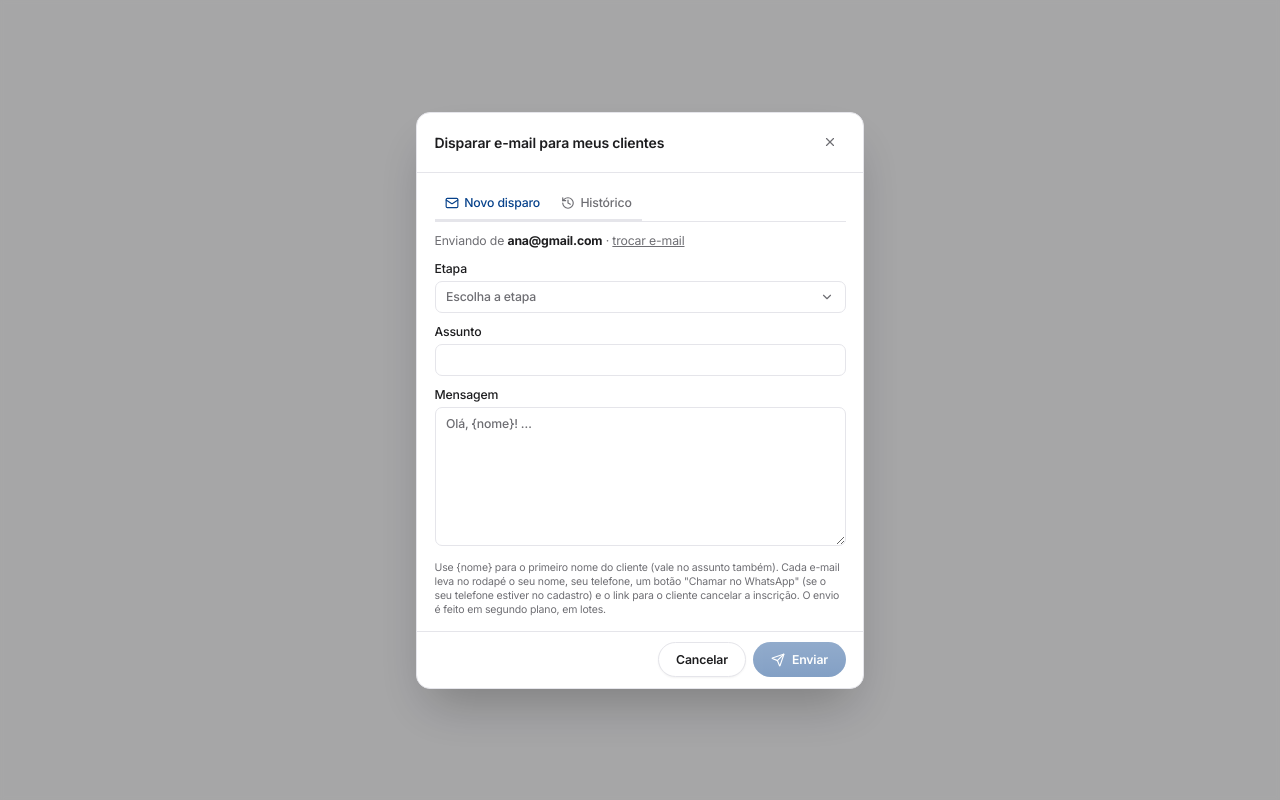
Test: DisparoEmailDialog › mostra quantos vão receber e quantos cancelaram a inscrição
The width and height of the screenshot is (1280, 800).
Click the button "Escolha a etapa" at (491, 296), box [434,281,846,312]
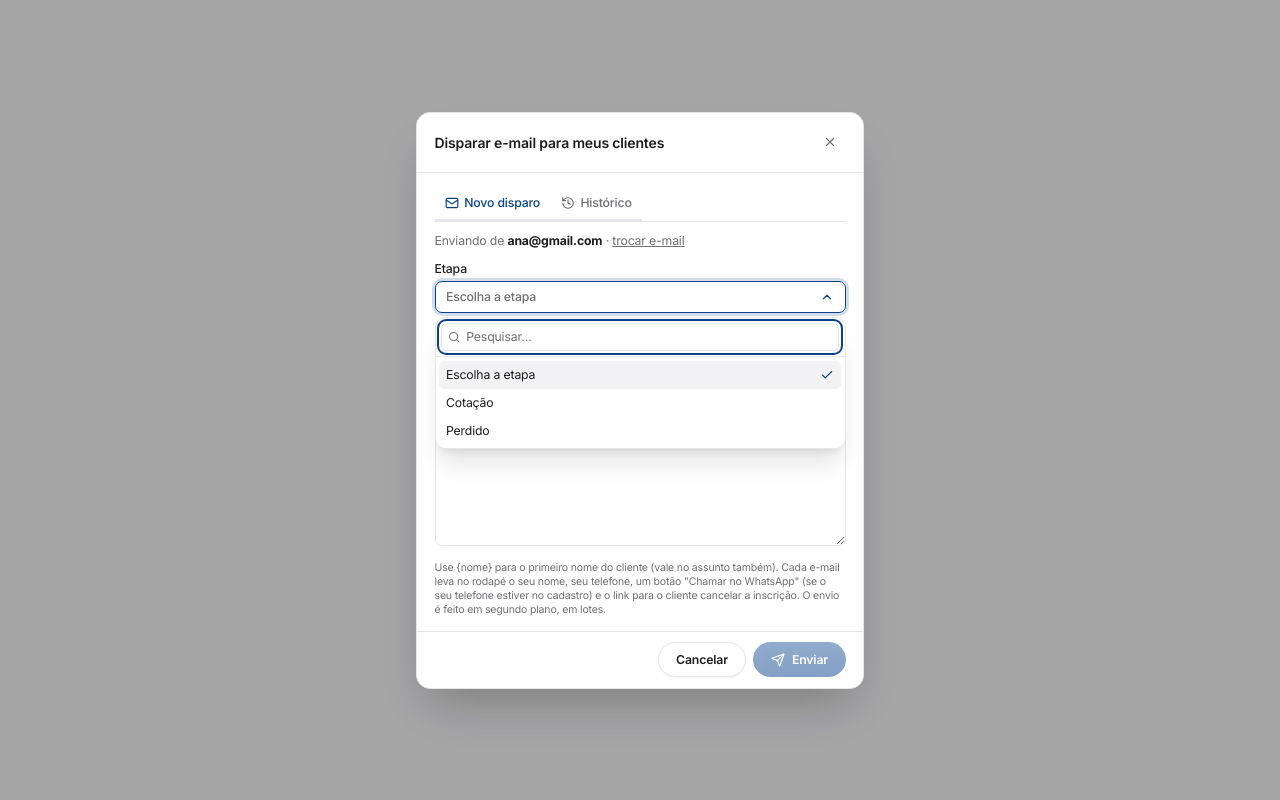
Click the option "Cotação" at (470, 402), box [439,388,841,416]
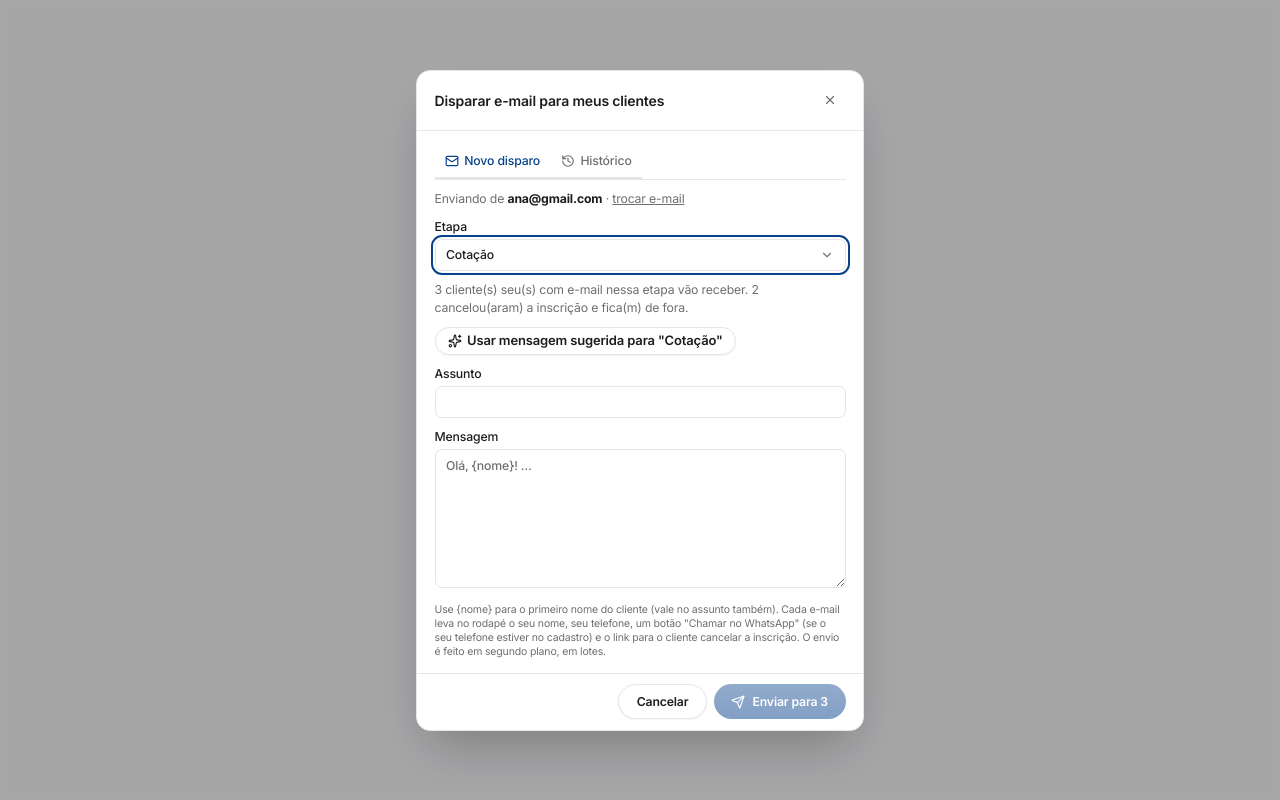
Check: the text "3 cliente(s) seu(s) com e-mail nessa etapa vão receber" is shown, box [434,282,748,297]
Check: the text "2 cancelou(aram) a inscrição e fica(m) de fora" is shown, box [434,282,759,314]
